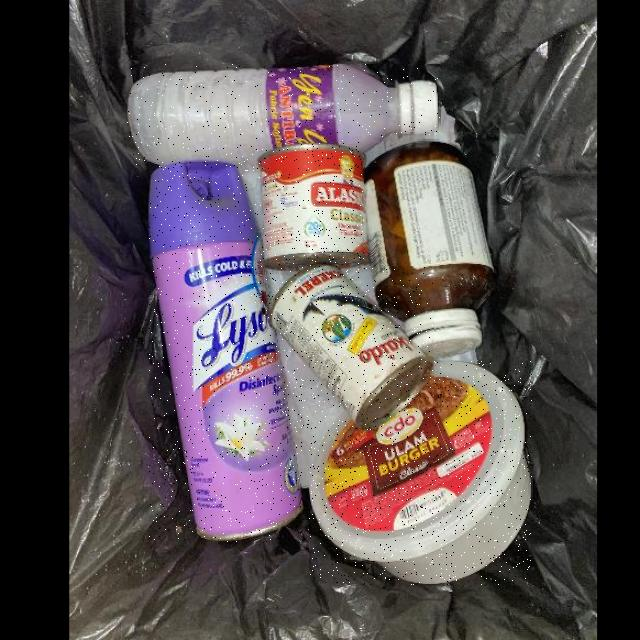glass: (365, 141, 495, 360)
metal: (149, 162, 302, 543), (269, 266, 434, 432), (258, 145, 371, 273)
plastic: (310, 361, 532, 585), (128, 65, 440, 166)
